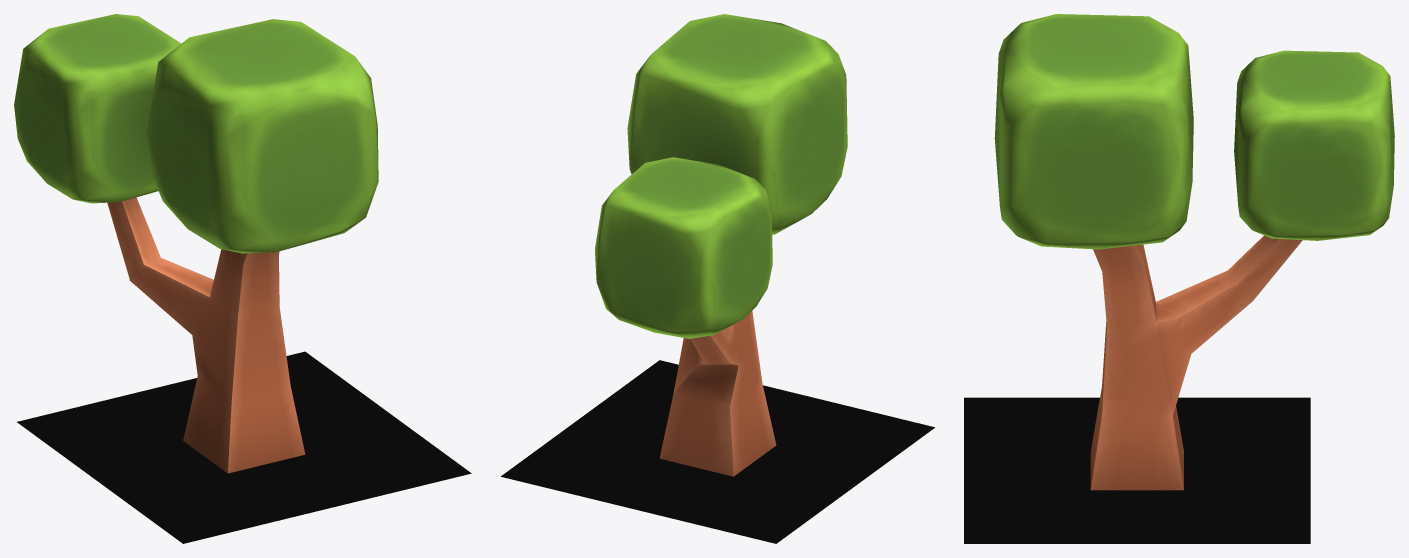
Rendered from tree_3.fbx.
3 renders of one model, left to right at view 1: azimuth 30°, elevation 25°; view 2: azimuth 150°, elevation 25°; view 3: azimuth 270°, elevation 25°, orthographic. The views are drawn at different scales.
Visible parts, largest first — view 1: tree_3, shadow_1.002; view 2: tree_3, shadow_1.002; view 3: tree_3, shadow_1.002.
Boxes of the visible parts, x1=… form: tree_3: x1=14, y1=14, x2=378, y2=473; shadow_1.002: x1=17, y1=351, x2=471, y2=543; tree_3: x1=595, y1=14, x2=847, y2=476; shadow_1.002: x1=501, y1=360, x2=934, y2=543; tree_3: x1=994, y1=14, x2=1394, y2=490; shadow_1.002: x1=964, y1=397, x2=1310, y2=543.
Bounding box in the file's own units: 471 × 641 × 585.
